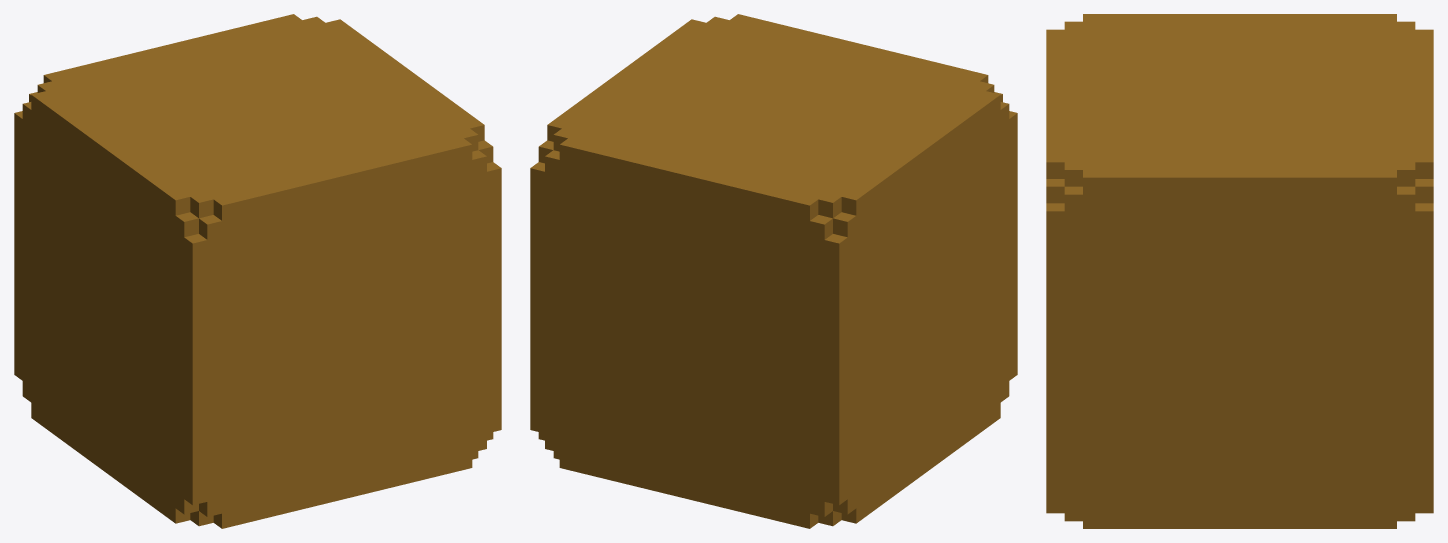
Rendered from base_block_v1.obj.
3 renders of one model, left to right at view 1: azimuth 30°, elevation 25°; view 2: azimuth 150°, elevation 25°; view 3: azimuth 270°, elevation 25°, orthographic. The views are drawn at different scales.
Bounding box in the file's own units: 2.1 × 2.1 × 2.1.
